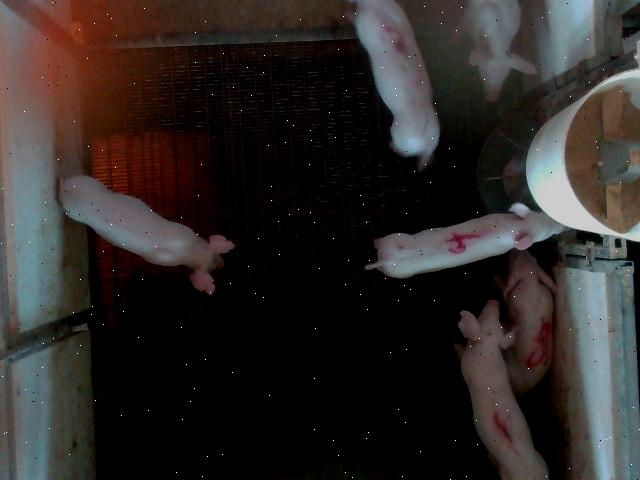pig-1: (455, 299, 548, 480)
pig-3: (358, 1, 440, 171)
pig-4: (365, 204, 565, 279)
pig-5: (498, 250, 556, 396)
